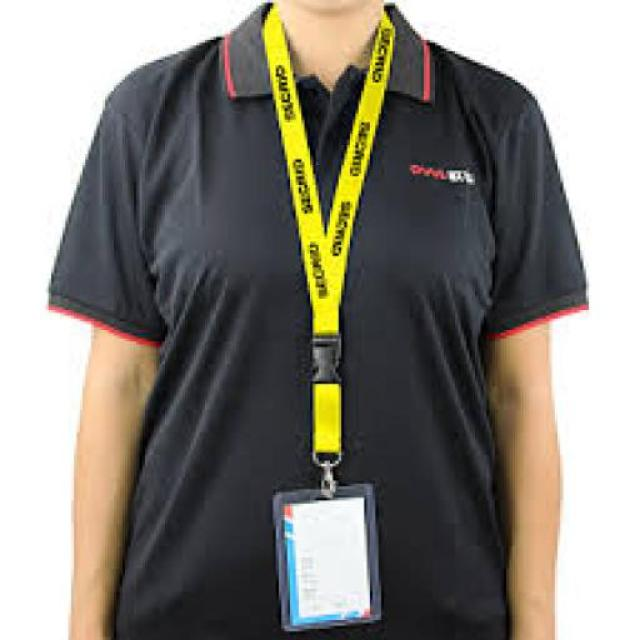id_card: (254, 10, 392, 638)
